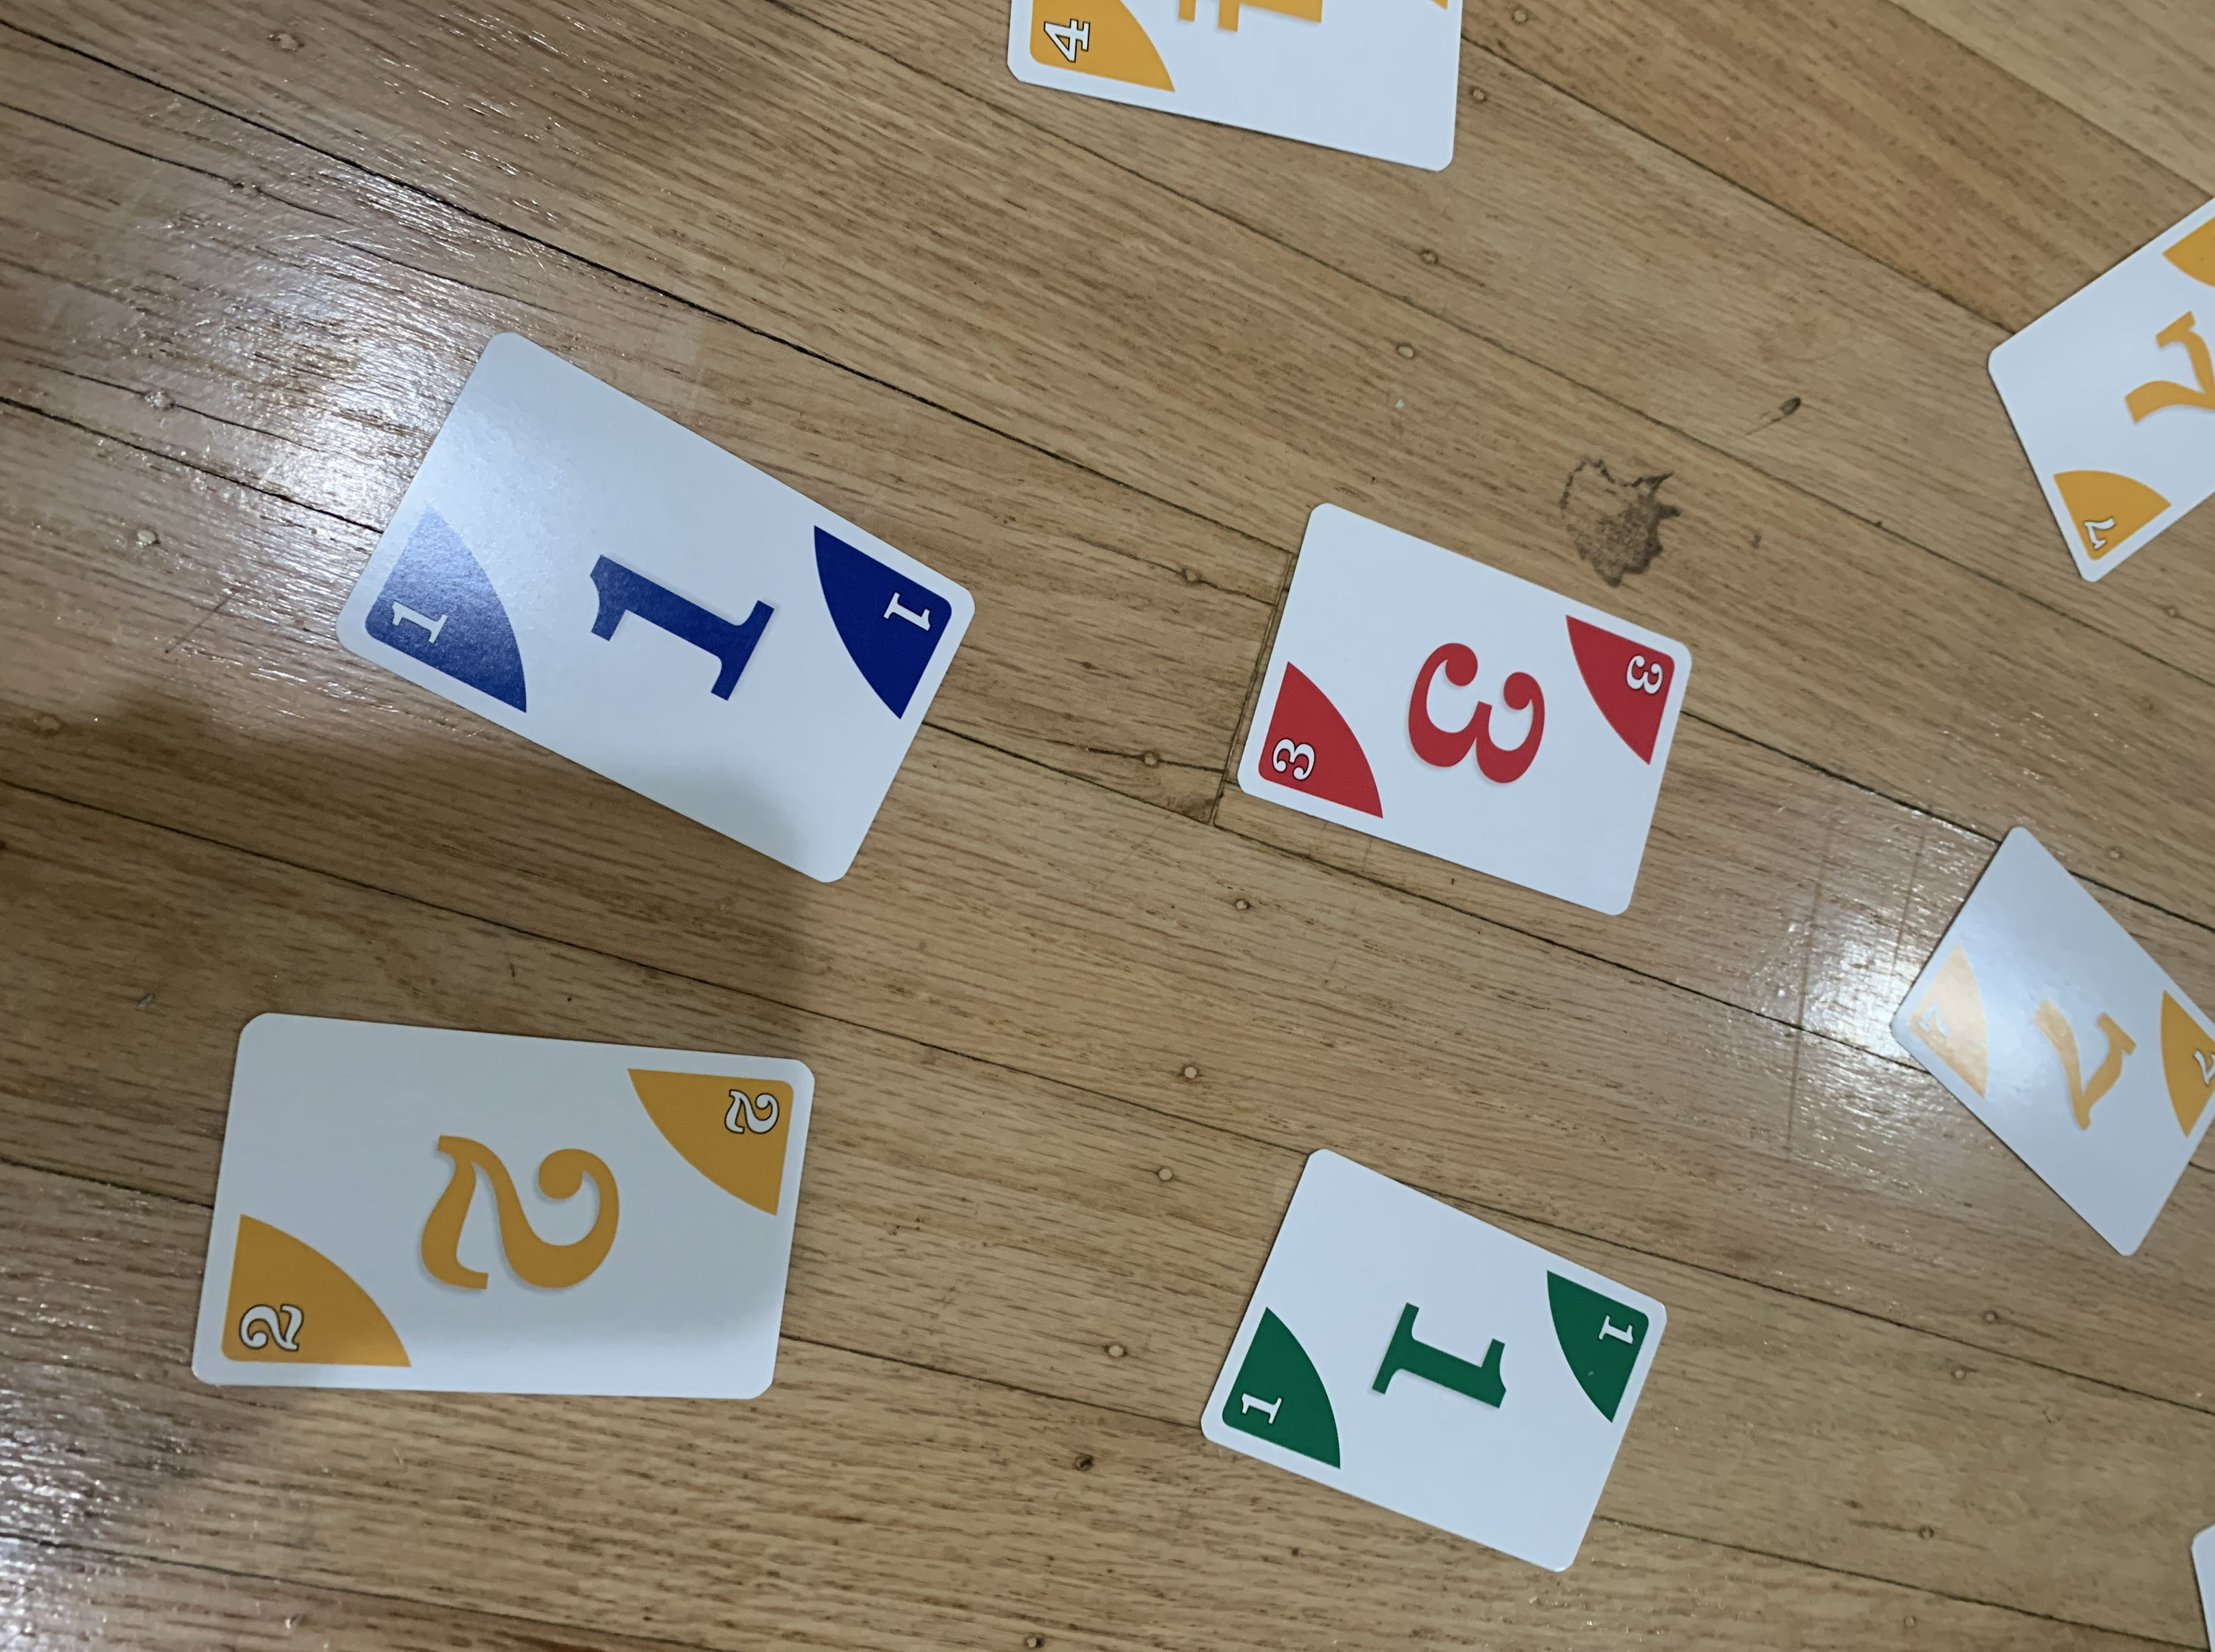one: (326, 316, 984, 901), (1186, 1130, 1672, 1577)
three: (1226, 493, 1698, 927)
two: (182, 1008, 819, 1409)
